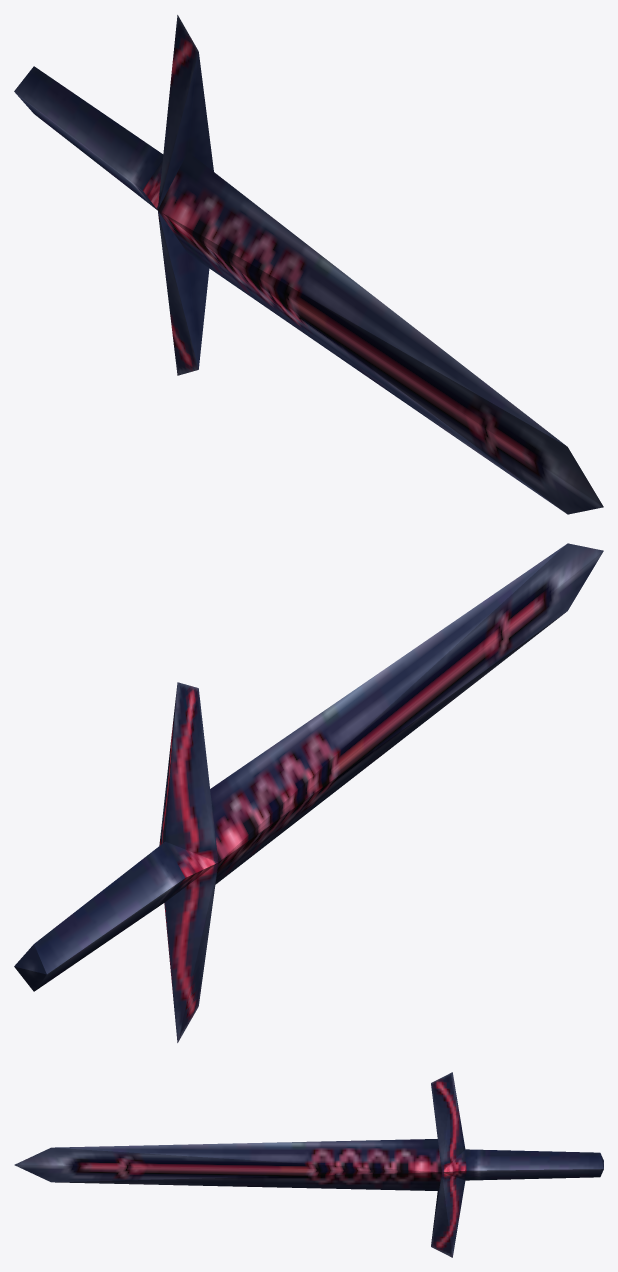
Rendered from ExcaliburMorgan.obj.
3 renders of one model, top to bottom at view 1: azimuth 30°, elevation 25°; view 2: azimuth 150°, elevation 25°; view 3: azimuth 270°, elevation 25°, orthographic. The views are drawn at different scales.
Visible parts, largest first — view 1: _0_0_node__0_0; view 2: _0_0_node__0_0; view 3: _0_0_node__0_0.
Part boxes in pixels (left/top/right/bottom): _0_0_node__0_0: left=14, top=15, right=603, bottom=514; _0_0_node__0_0: left=14, top=543, right=603, bottom=1042; _0_0_node__0_0: left=14, top=1072, right=603, bottom=1257.
Bounding box in the file's own units: 0.1623 × 0.9452 × 2.72.
1 material, 1 textured.
